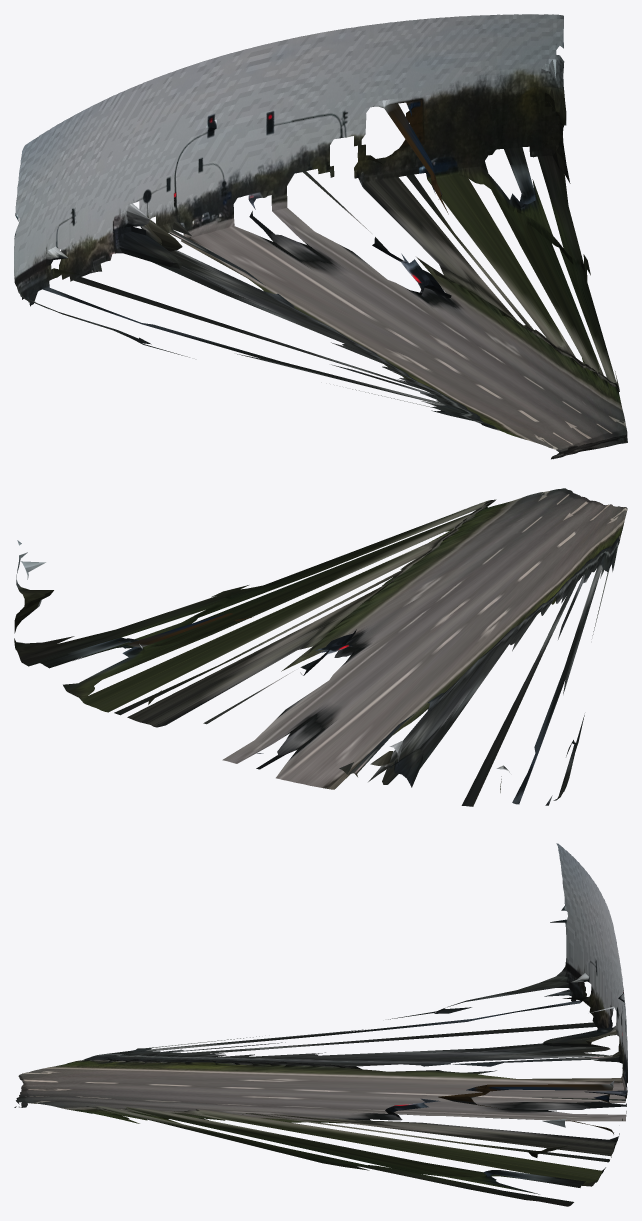
3 renders of one model, top to bottom at view 1: azimuth 30°, elevation 25°; view 2: azimuth 150°, elevation 25°; view 3: azimuth 270°, elevation 25°, orthographic. The views are drawn at different scales.
Parts seen in each view (by area): view 1: defaultobject; view 2: defaultobject; view 3: defaultobject.
Part boxes in pixels (x1,y1,x2,y2): defaultobject: (14,14,627,459); defaultobject: (14,488,627,806); defaultobject: (14,843,627,1206).
Size of the model in its own units: 41.09 by 12.94 by 44.45.
1 material, 1 textured.
